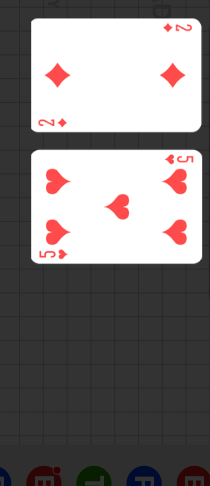2D: (37, 116, 70, 128)
5H: (38, 247, 70, 260)
